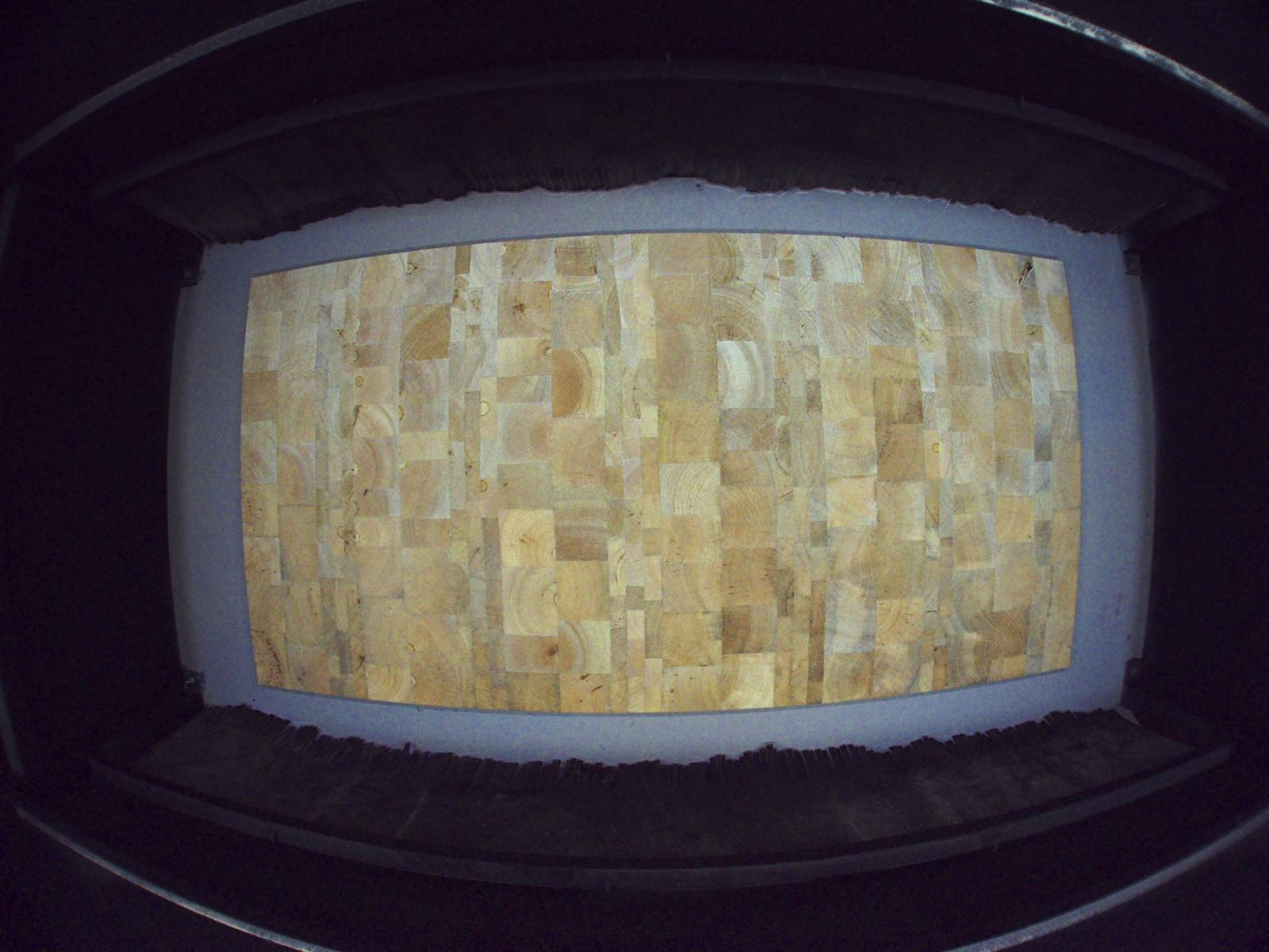nudillo: (1017, 259, 1034, 288)
